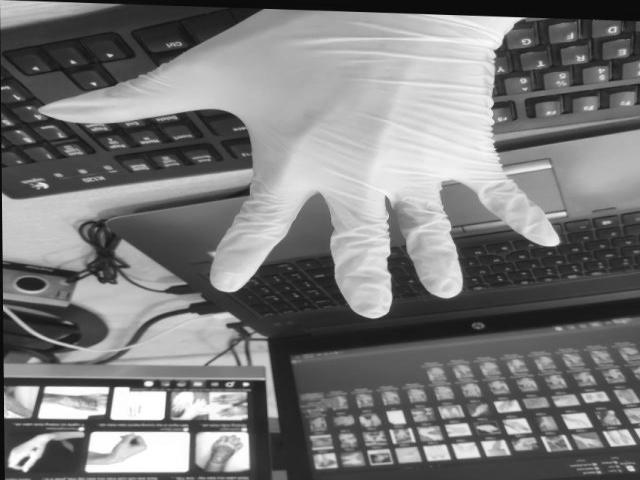gloved: (44, 0, 561, 319)
